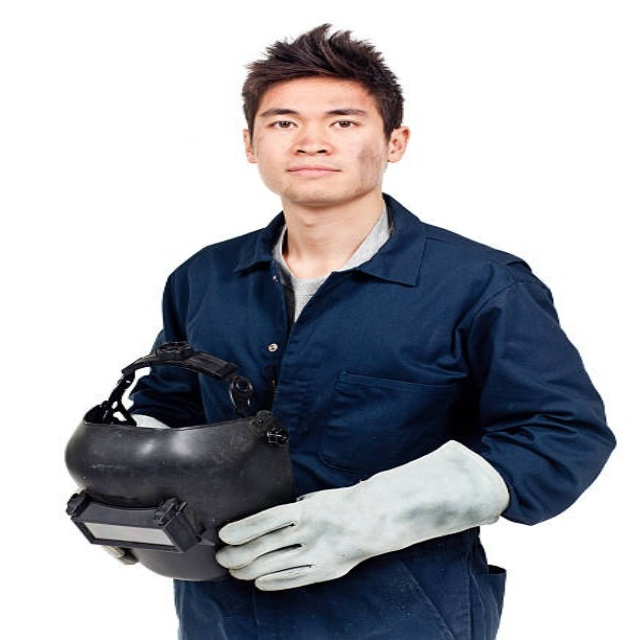Guantes: (216, 435, 514, 598)
Sin_gafas: (258, 104, 376, 137)
Sin_mascara: (276, 159, 349, 189)
